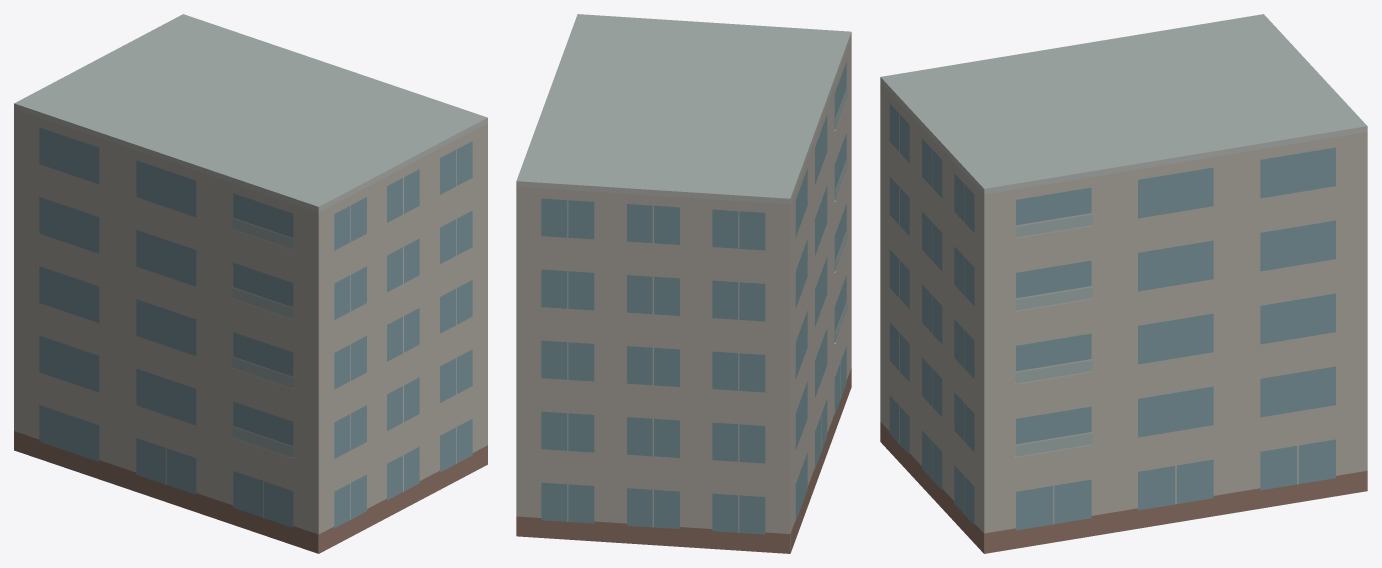
The model's file is survey-upis-32850471.glb.
3 views of the same model, side by side, from view 1: azimuth 30°, elevation 25°; view 2: azimuth 150°, elevation 25°; view 3: azimuth 270°, elevation 25° (orthographic). The views are drawn at different scales.
Visible parts, largest first — view 1: survey-upis-32850471.tmp; view 2: survey-upis-32850471.tmp; view 3: survey-upis-32850471.tmp.
Boxes of the visible parts, x1,y1,x2,y2 form: survey-upis-32850471.tmp: (14, 14, 487, 553); survey-upis-32850471.tmp: (516, 14, 851, 553); survey-upis-32850471.tmp: (880, 14, 1367, 553).
Size of the model in its own units: 15.94 by 15.5 by 18.76.
